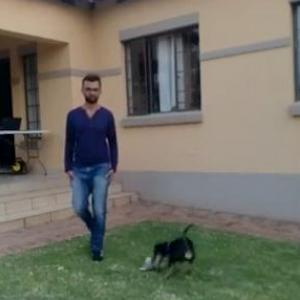follow: (61, 74, 121, 259)
